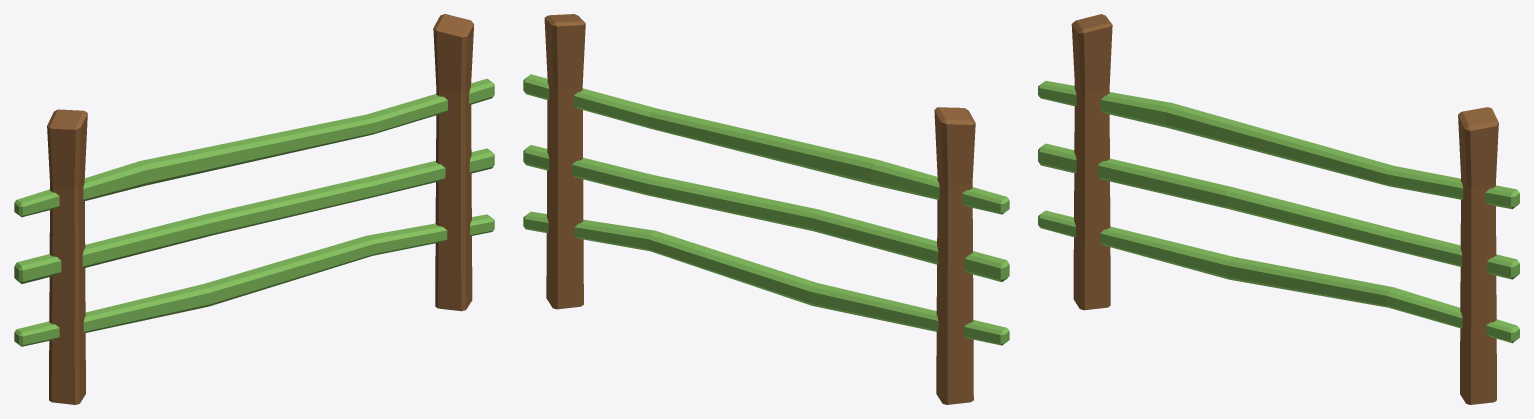
File: fence_c.gltf
The picture shows the model from 3 angles, left to right: view 1: azimuth 30°, elevation 25°; view 2: azimuth 150°, elevation 25°; view 3: azimuth 330°, elevation 25°; orthographic projection.
Visible parts, largest first — view 1: fence_c002; view 2: fence_c002; view 3: fence_c002.
Boxes of the visible parts, box(x1,y1,x2,y2) form: fence_c002: box(14, 14, 494, 404); fence_c002: box(523, 14, 1009, 404); fence_c002: box(1038, 14, 1519, 404).
Bounding box in the file's own units: 1.41 × 0.802 × 0.1139.
Materials: 1 (1 with a texture image).
